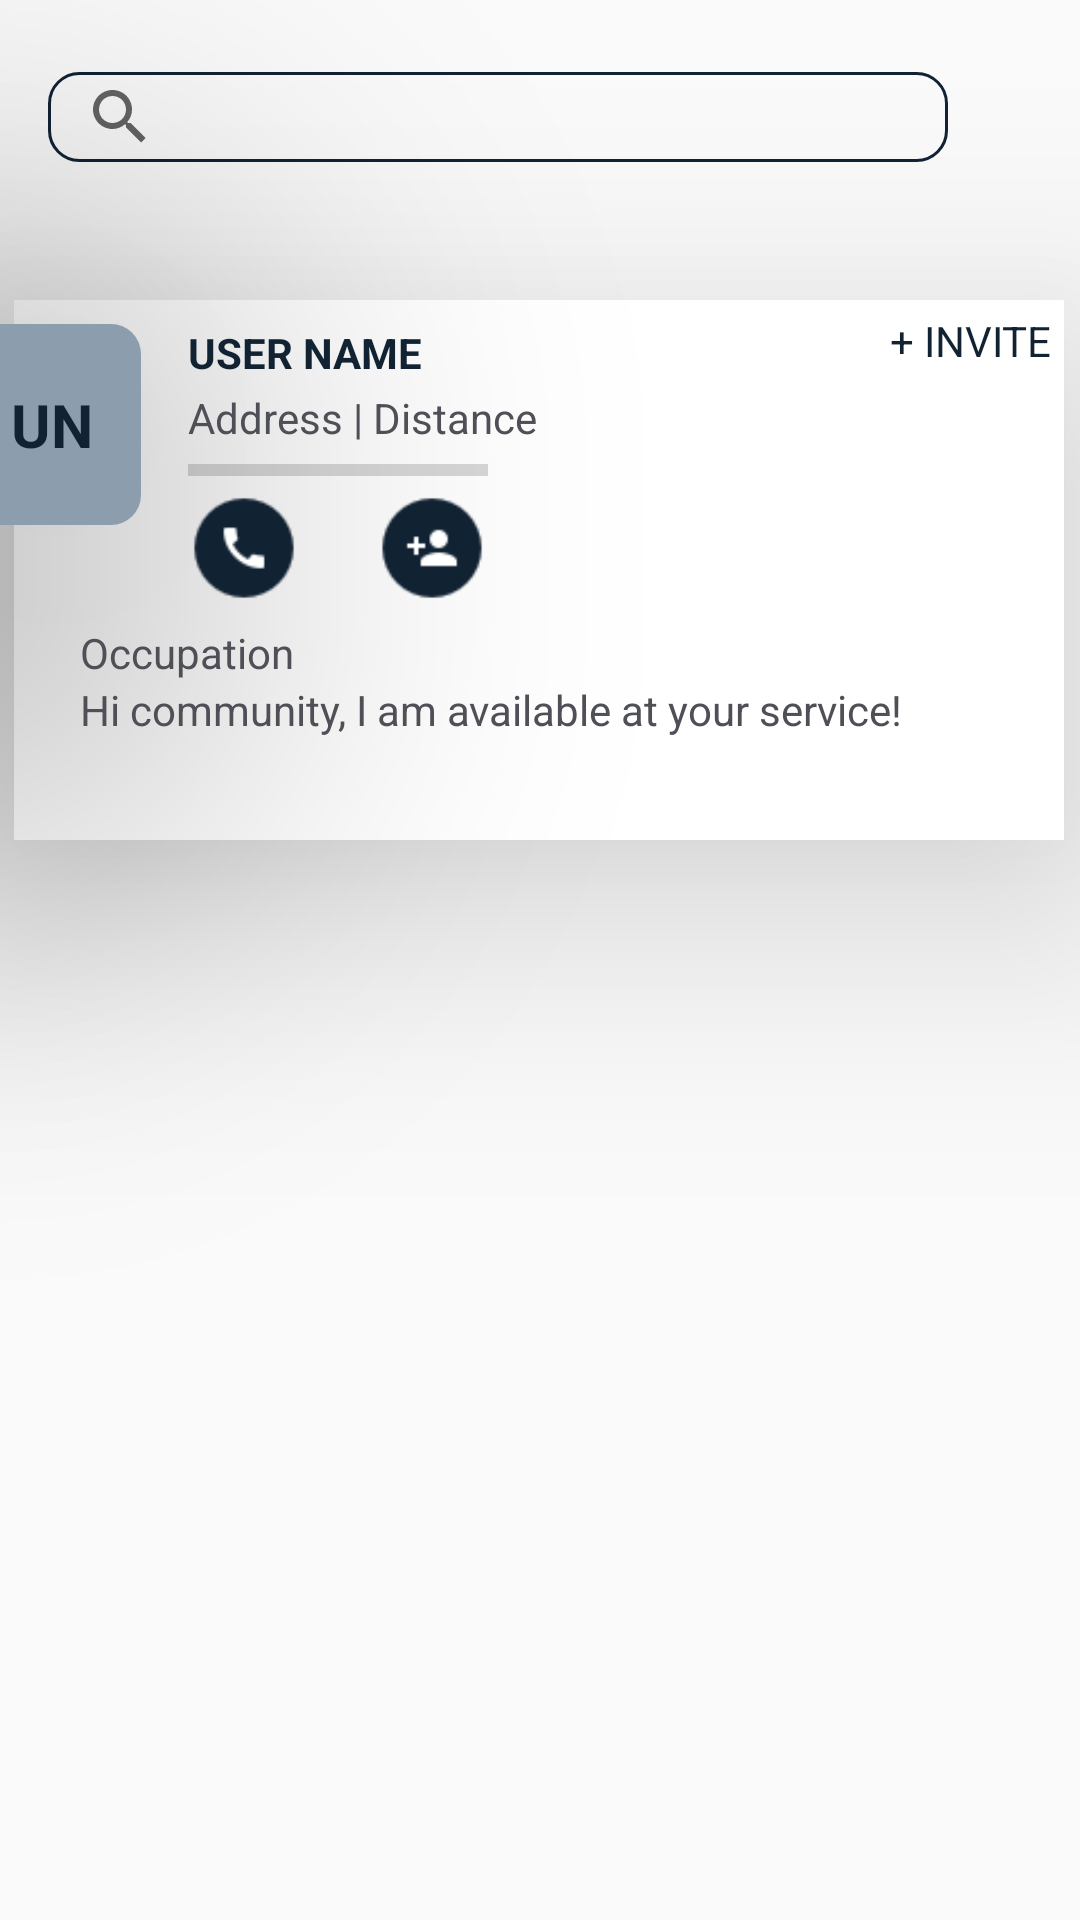

Named icons in this screenshot (1080px x 1920px) and their centers, [x,y]:
add contact: [432,548]
call: [244,548]
